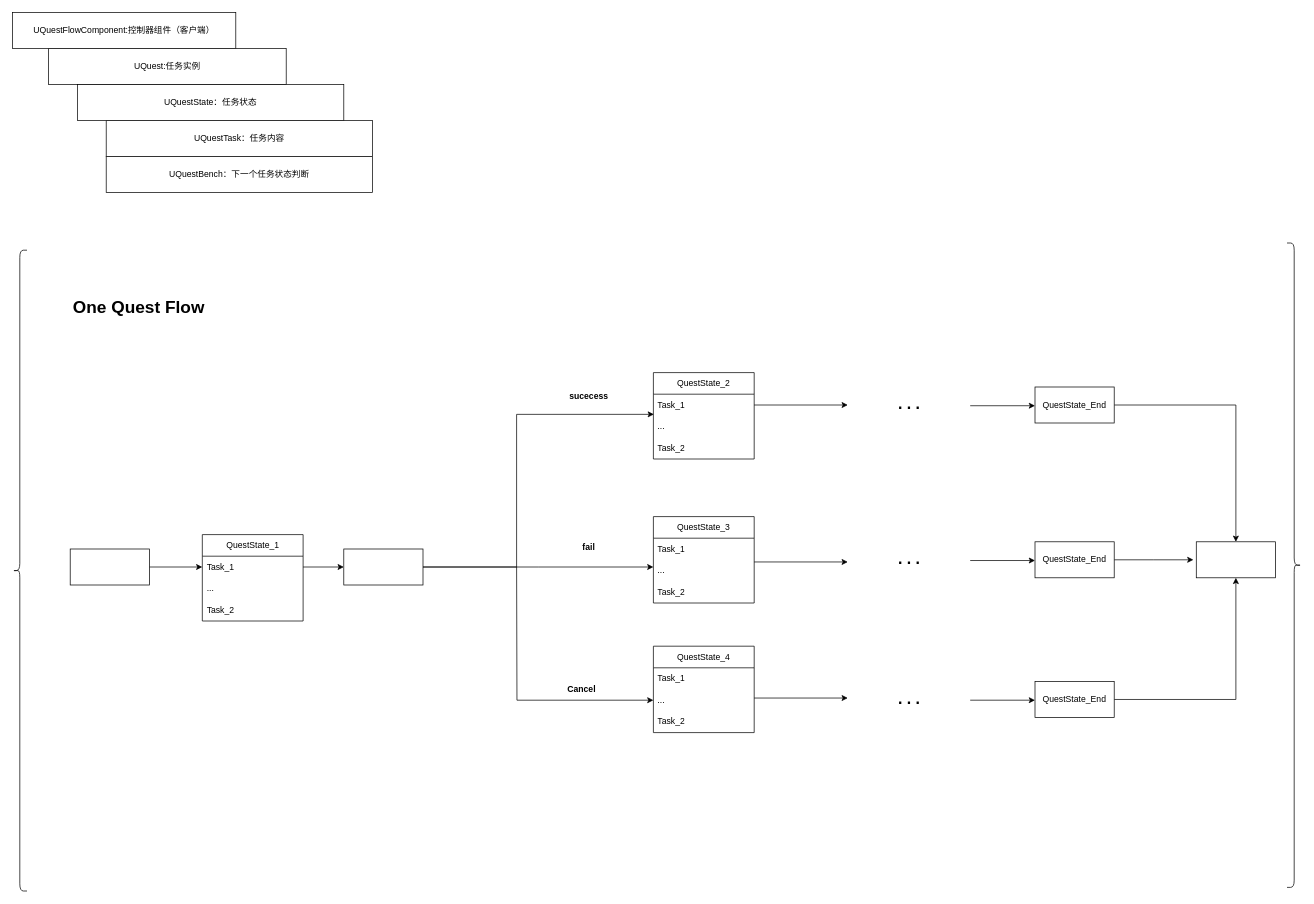
The diagram is 1314 pixels wide and 904 high, and some of its shapes have lost their labels. Here are the shapes that lost their labels. From the top down, the centre of each, then its label:
the point at 109,566: Start
the point at 383,566: QuestBench
the point at 1235,559: End
